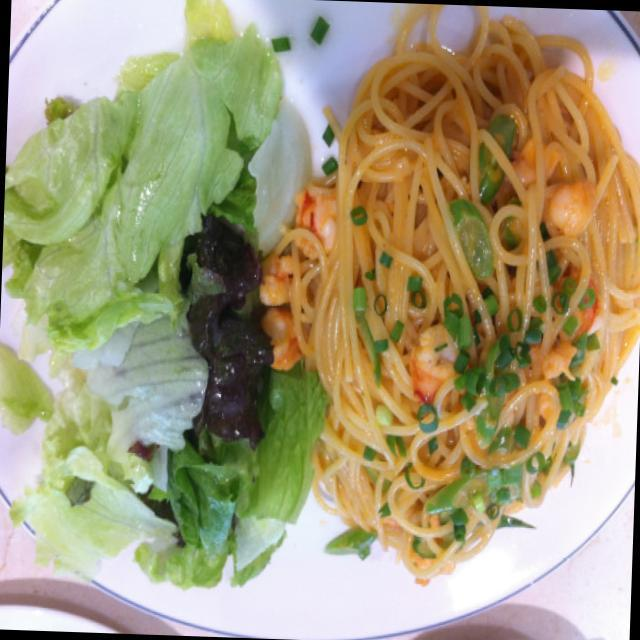Pasta: (293, 24, 637, 588)
